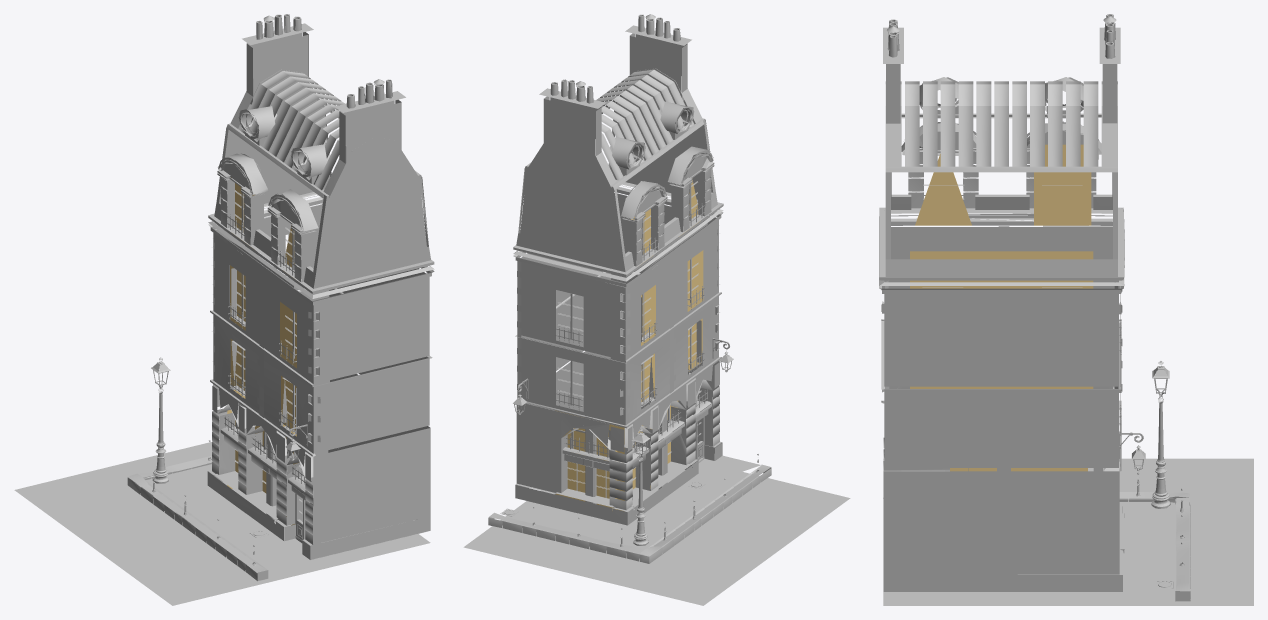
The picture shows the model from 3 angles, left to right: view 1: azimuth 30°, elevation 25°; view 2: azimuth 150°, elevation 25°; view 3: azimuth 270°, elevation 25°; orthographic projection. The views are drawn at different scales.
Visible parts, largest first — view 1: Mur_Crepis_BAS; view 2: Mur_Crepis_BAS; view 3: Mur_Crepis_BAS.
Part boxes in pixels (bbox=[...]): Mur_Crepis_BAS: bbox=[14, 14, 434, 605]; Mur_Crepis_BAS: bbox=[463, 14, 850, 605]; Mur_Crepis_BAS: bbox=[879, 14, 1253, 605].
Size of the model in its own units: 14.71 by 25.46 by 15.65.
